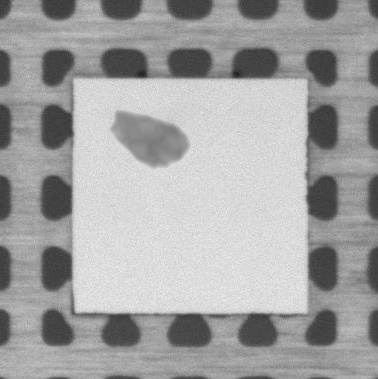DIE_INK: (109, 108, 190, 167)
